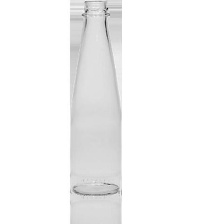bottle: (66, 0, 124, 199)
